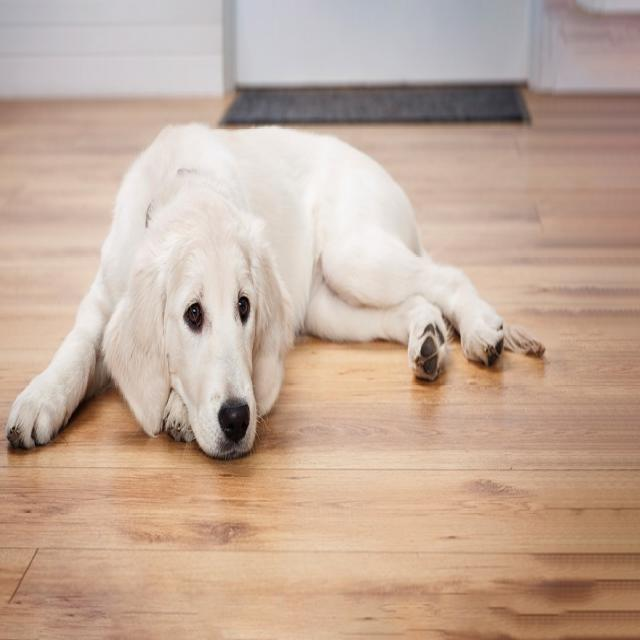laying down: (5, 116, 548, 466)
